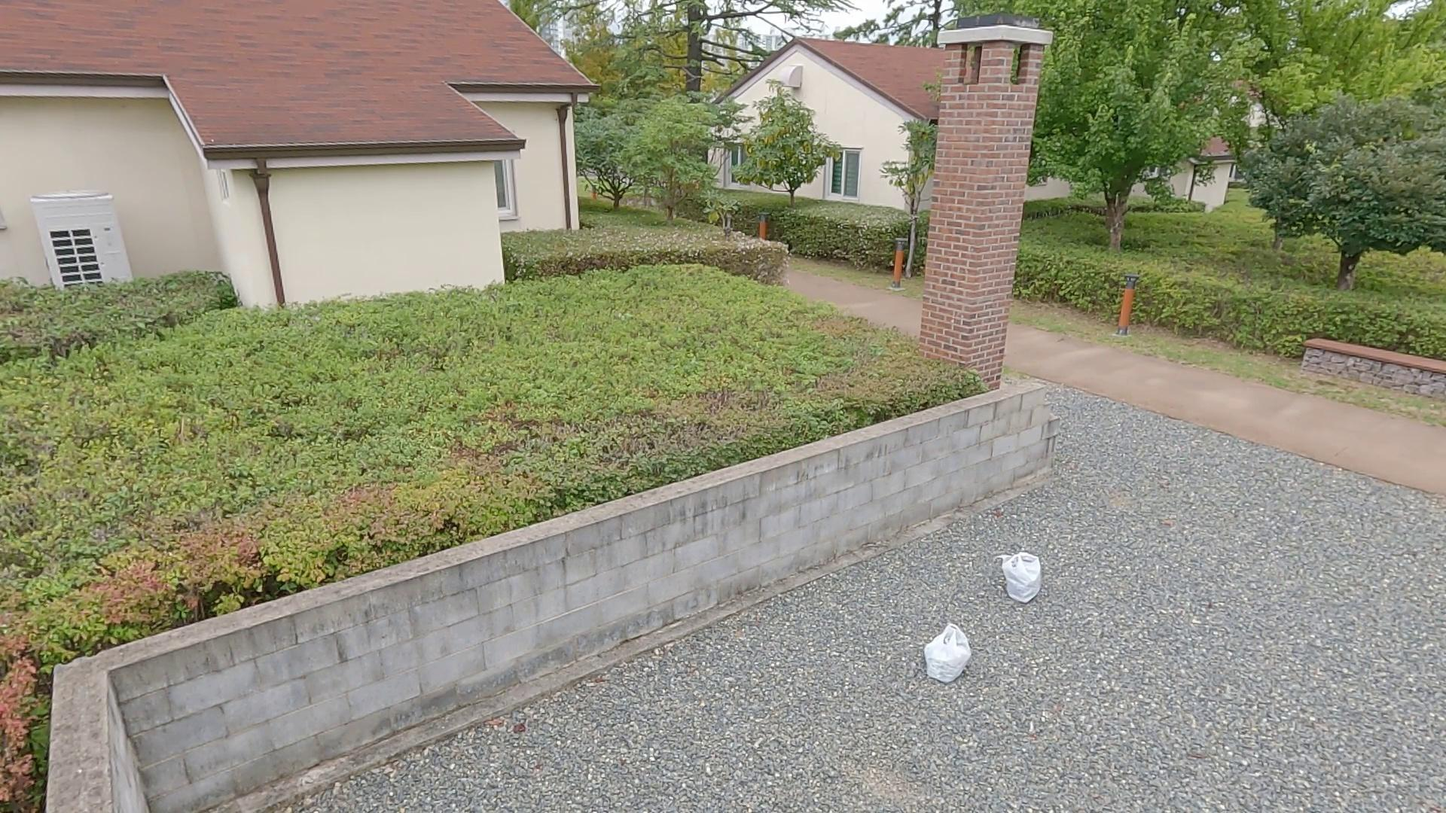trash: (923, 622, 971, 682), (996, 548, 1045, 604)
